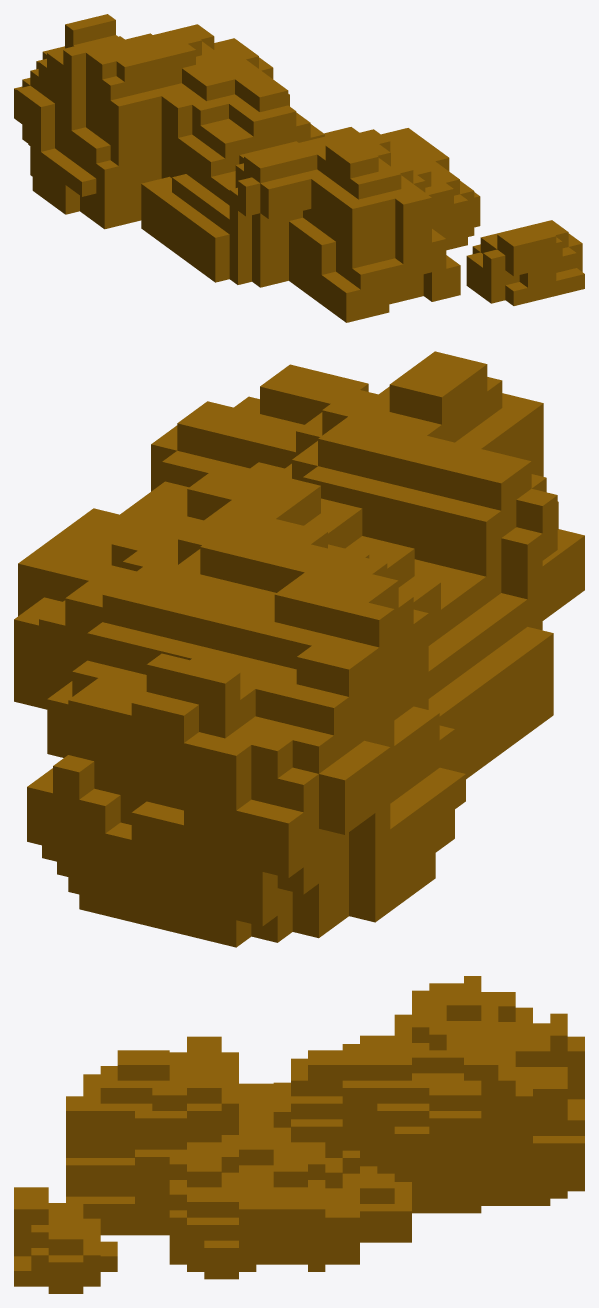
The model's file is obs-0-Kamen-0-Kamen.obj.
3 renders of one model, top to bottom at view 1: azimuth 30°, elevation 25°; view 2: azimuth 150°, elevation 25°; view 3: azimuth 270°, elevation 25°, orthographic. The views are drawn at different scales.
Parts seen in each view (by area): view 1: Kamen; view 2: Kamen; view 3: Kamen.
Boxes of the visible parts, box(x1,y1,x2,y2) form: Kamen: box(14, 14, 584, 322); Kamen: box(14, 351, 584, 947); Kamen: box(14, 976, 584, 1293).
Size of the model in its own units: 2.3 by 1 by 3.3.
1 material, 1 textured.
